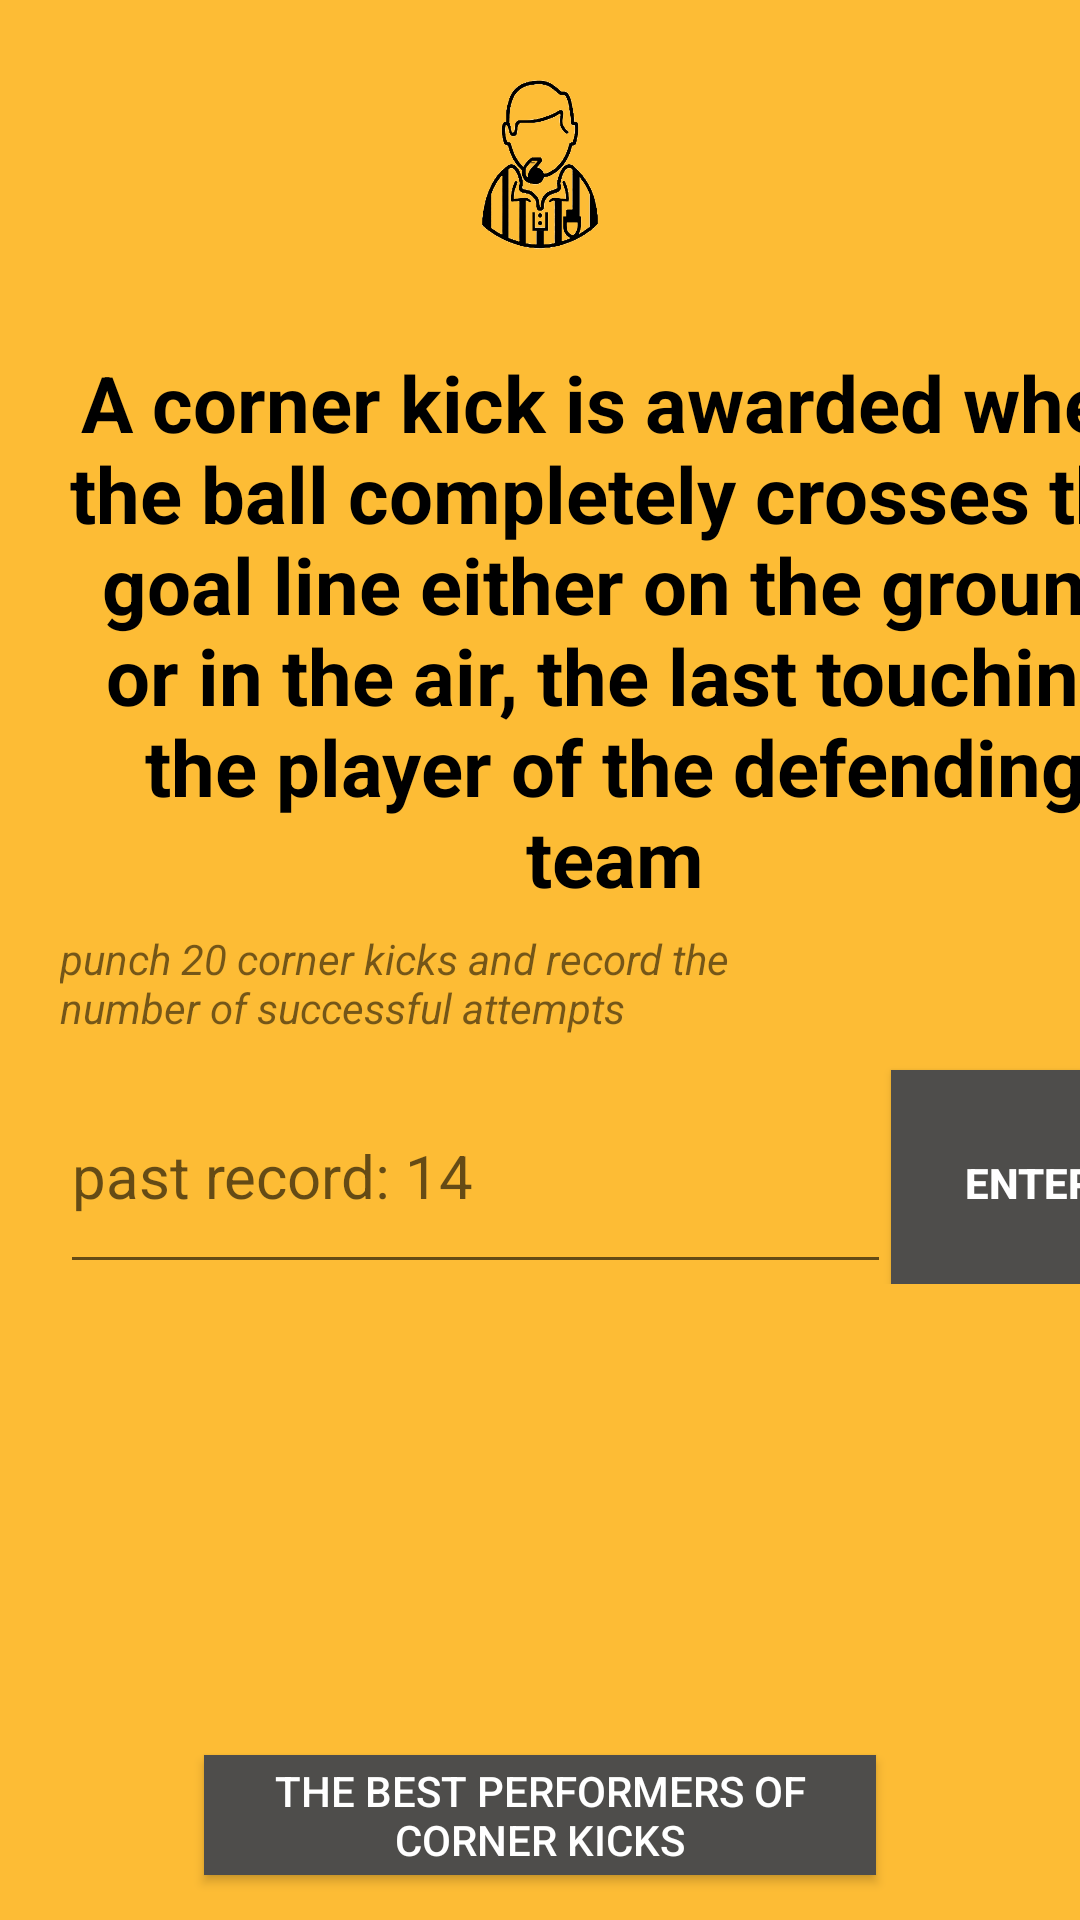

Locate icon controls on the screen. Image size 1080x1920, boxes as (x1, y1, x2, y2).
emblemasudya: (482, 80, 598, 249)
